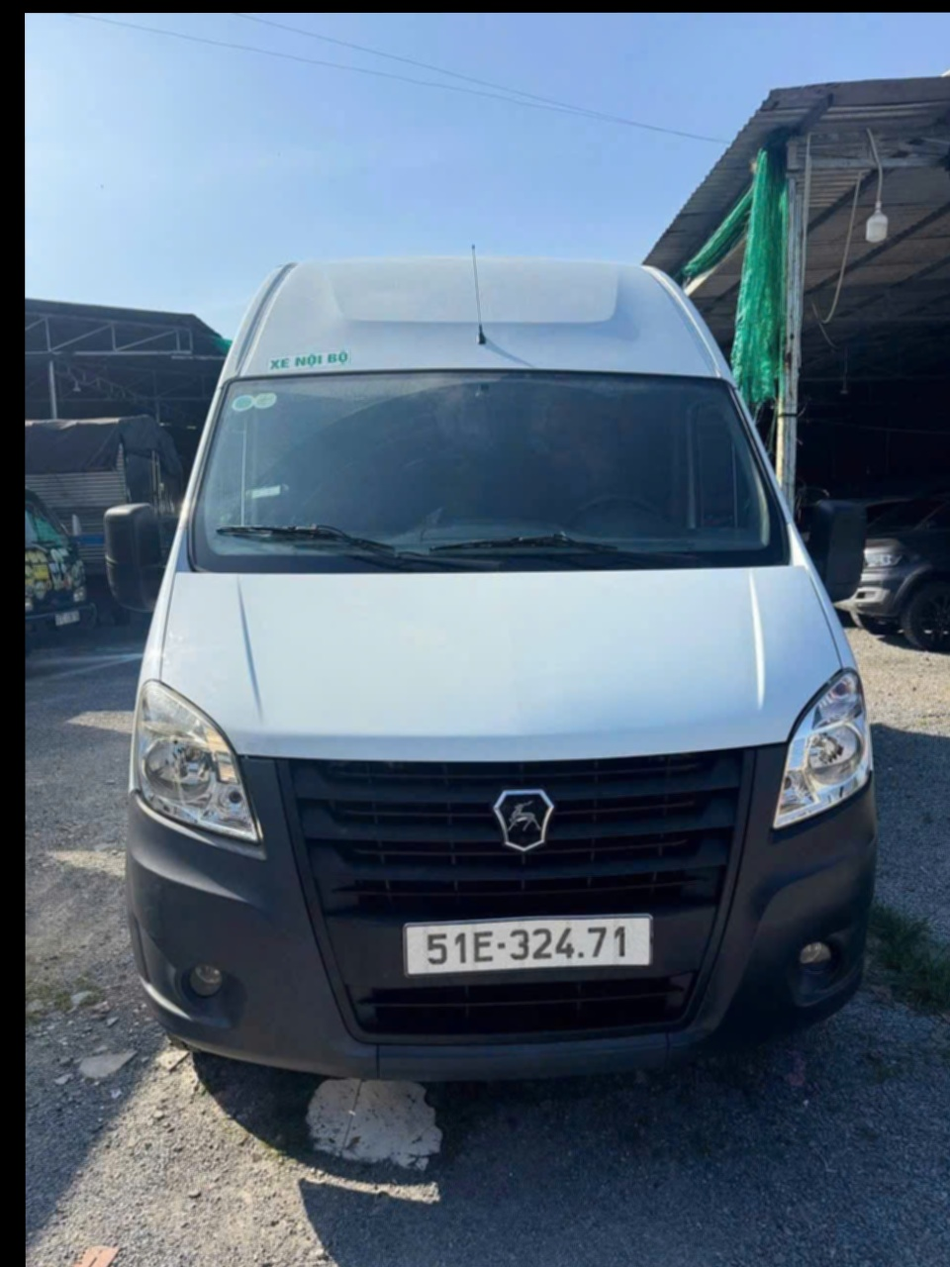Bien-so: (392, 854, 656, 919)
